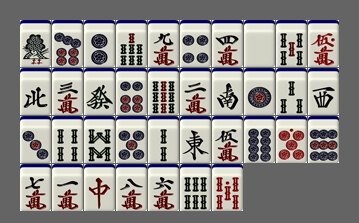0m: (308, 20, 339, 67)
0p: (276, 116, 307, 163)
0s: (212, 164, 243, 211)
1m: (52, 164, 83, 211)
1p: (244, 68, 275, 115)
1s: (20, 20, 51, 67)
1z: (180, 116, 211, 163)
2m: (180, 68, 211, 115)
2p: (84, 20, 115, 67)
2s: (148, 116, 179, 163)
2z: (212, 68, 243, 115)
3m: (52, 68, 83, 115)
3p: (20, 116, 51, 163)
3s: (276, 68, 307, 115)
3z: (308, 68, 339, 115)
4m: (212, 20, 243, 67)
4p: (180, 20, 211, 67)
4s: (52, 116, 83, 163)
4z: (20, 68, 51, 115)
5m: (212, 116, 243, 163)
5p: (116, 116, 147, 163)
5s: (276, 20, 307, 67)
5z: (244, 20, 275, 67)
6m: (148, 164, 179, 211)
6p: (116, 68, 147, 115)
6s: (180, 164, 211, 211)
6z: (84, 68, 115, 115)
7m: (20, 164, 51, 211)
7p: (52, 20, 83, 67)
7s: (116, 20, 147, 67)
7z: (84, 164, 115, 211)
8m: (116, 164, 147, 211)
8p: (244, 116, 275, 163)
8s: (84, 116, 115, 163)
9m: (148, 20, 179, 67)
9p: (308, 116, 339, 163)
9s: (148, 68, 179, 115)
